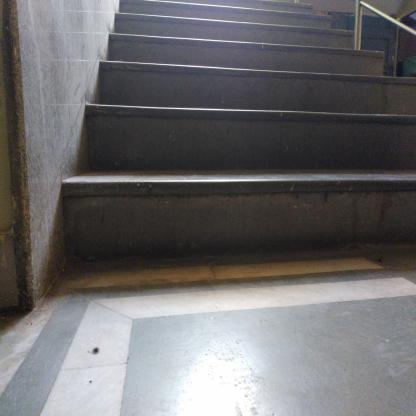stairs: (121, 4, 334, 265)
